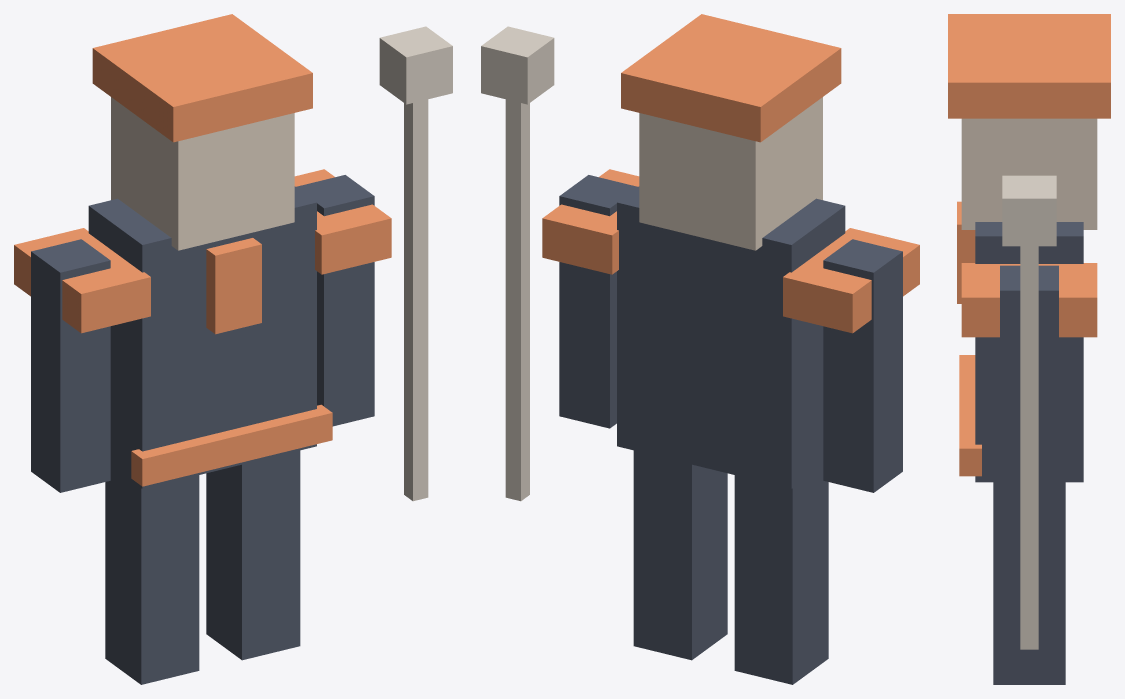
Rendered from 01_korra_spirebound_mechanist_near_early_warning.glb.
3 renders of one model, left to right at view 1: azimuth 30°, elevation 25°; view 2: azimuth 150°, elevation 25°; view 3: azimuth 270°, elevation 25°, orthographic.
Parts seen in each view (by area): view 1: Korra Spirebound, Mechanist near Early-Warning; view 2: Korra Spirebound, Mechanist near Early-Warning; view 3: Korra Spirebound, Mechanist near Early-Warning.
Part boxes in pixels (x1,y1,x2,y2): Korra Spirebound, Mechanist near Early-Warning: [14, 14, 452, 684]; Korra Spirebound, Mechanist near Early-Warning: [481, 14, 919, 684]; Korra Spirebound, Mechanist near Early-Warning: [948, 14, 1110, 684].
Bounding box in the file's own units: 1.05 × 1.51 × 0.3723.
